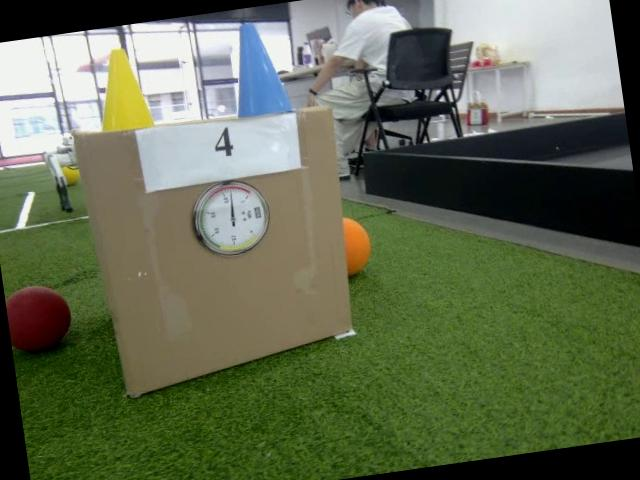4: (212, 126, 235, 158)
Dashboard: (188, 176, 274, 260)
blue_barrel: (223, 17, 293, 120)
red_ball: (4, 280, 76, 356)
ssi: (252, 206, 262, 220)
yellow_barrel: (91, 45, 156, 134)
